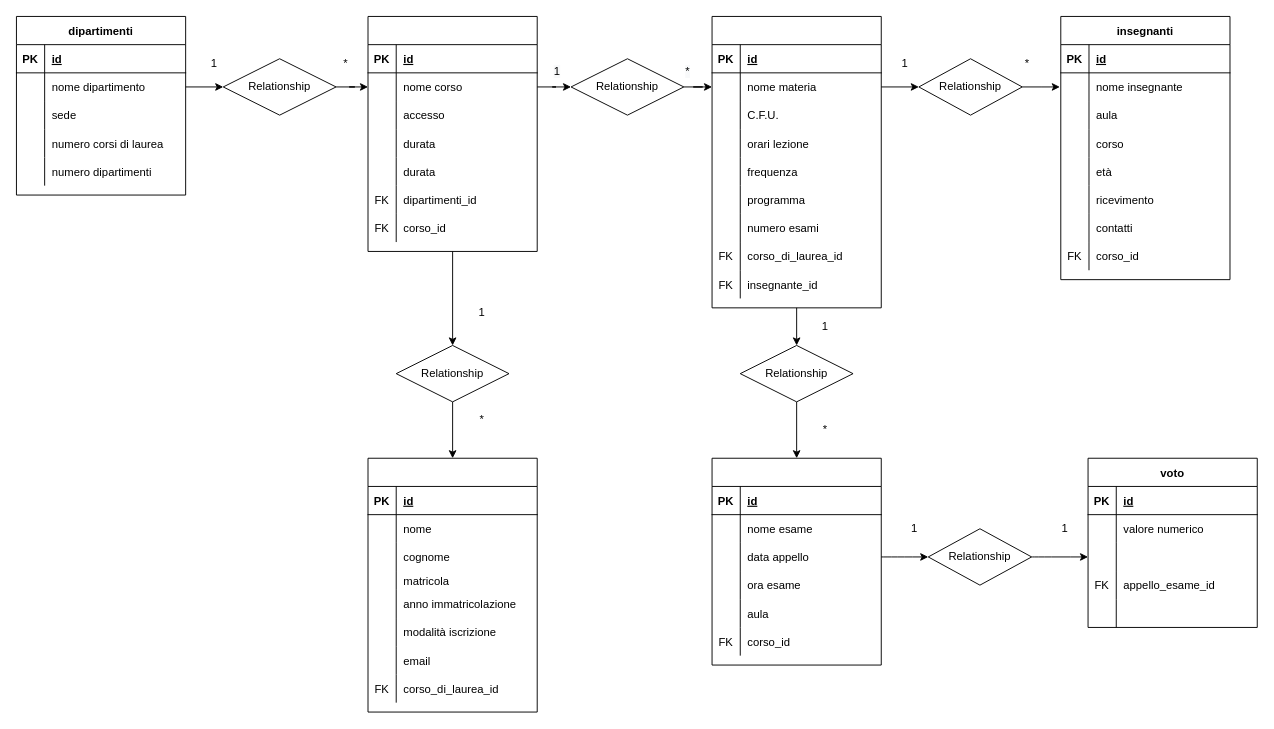
Some shapes in this 1274 by 729 pixel diagram are drawn without their labels. The shapes that lost their labels are listed below. From the top down, each one's box as (x1, y1, x2, y2) in pixels, then its label:
(367, 16, 537, 251): corsi di laurea
(711, 16, 881, 308): corsi
(711, 457, 881, 665): appelli esame
(367, 457, 537, 712): studenti
